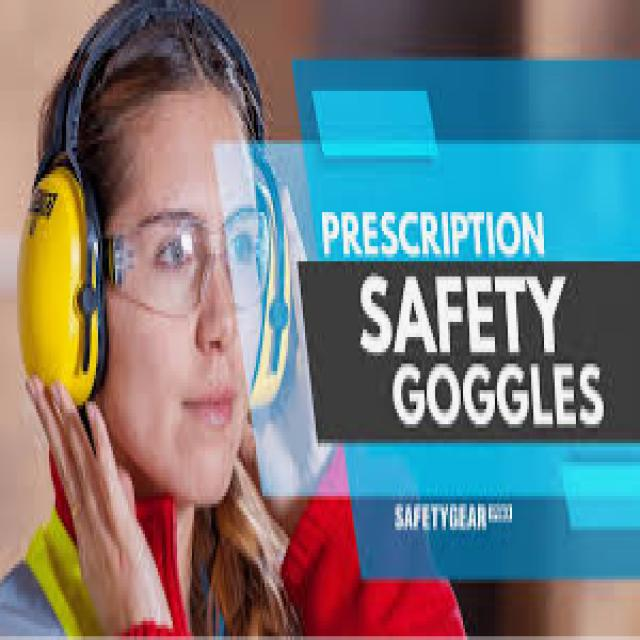glasses: (74, 194, 300, 316)
